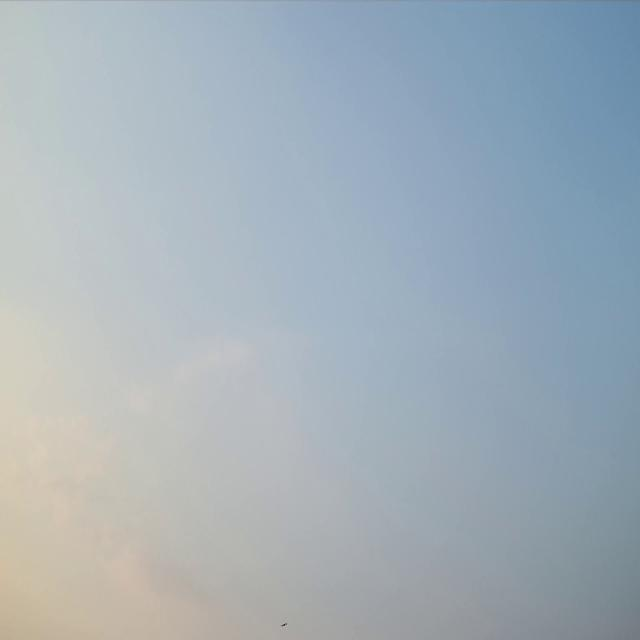UAV: (280, 621, 286, 628)
